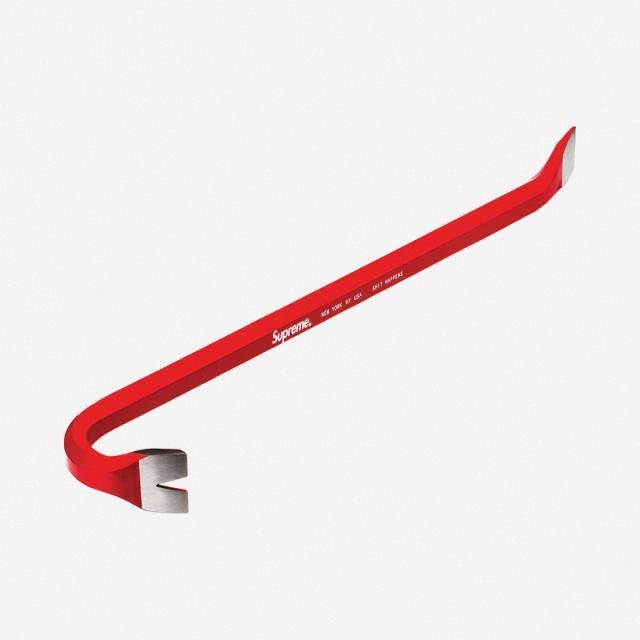Linggis: (56, 123, 585, 522)
